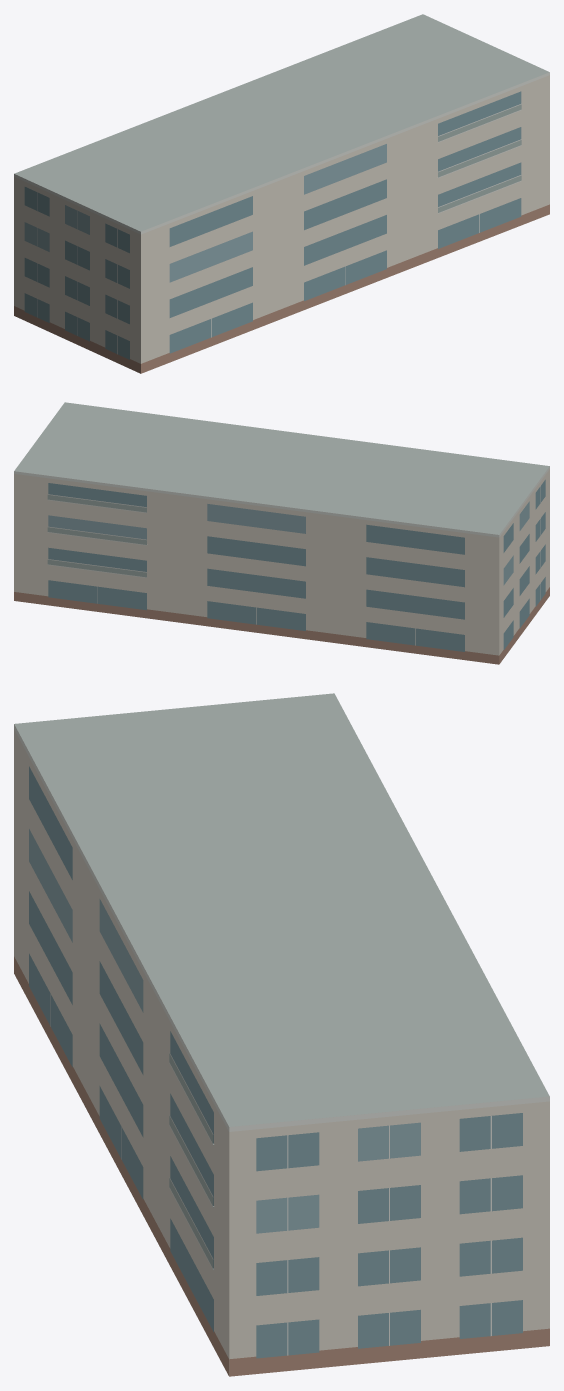
The model's file is residential-ad47108d-5032-4e9e-a95c-c019d7a3d7c8.glb.
The picture shows the model from 3 angles, top to bottom: view 1: azimuth 30°, elevation 25°; view 2: azimuth 150°, elevation 25°; view 3: azimuth 270°, elevation 25°; orthographic projection. The views are drawn at different scales.
Parts seen in each view (by area): view 1: residential-ad47108d-5032-4e9e-a95c-c019d7a3d7c8.tmp; view 2: residential-ad47108d-5032-4e9e-a95c-c019d7a3d7c8.tmp; view 3: residential-ad47108d-5032-4e9e-a95c-c019d7a3d7c8.tmp.
Boxes of the visible parts, x1=… form: residential-ad47108d-5032-4e9e-a95c-c019d7a3d7c8.tmp: x1=14, y1=14, x2=549, y2=373; residential-ad47108d-5032-4e9e-a95c-c019d7a3d7c8.tmp: x1=14, y1=402, x2=549, y2=664; residential-ad47108d-5032-4e9e-a95c-c019d7a3d7c8.tmp: x1=14, y1=693, x2=549, y2=1376.
Size of the model in its own units: 45.47 by 12.2 by 23.75.
